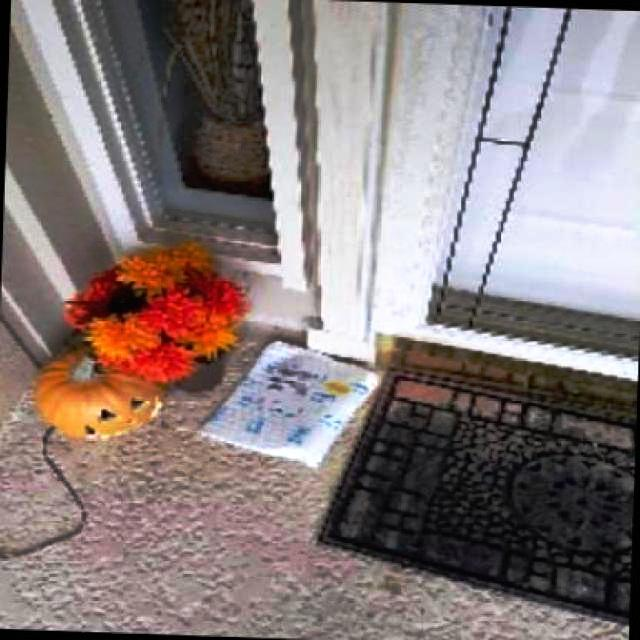Box: (198, 337, 380, 471)
